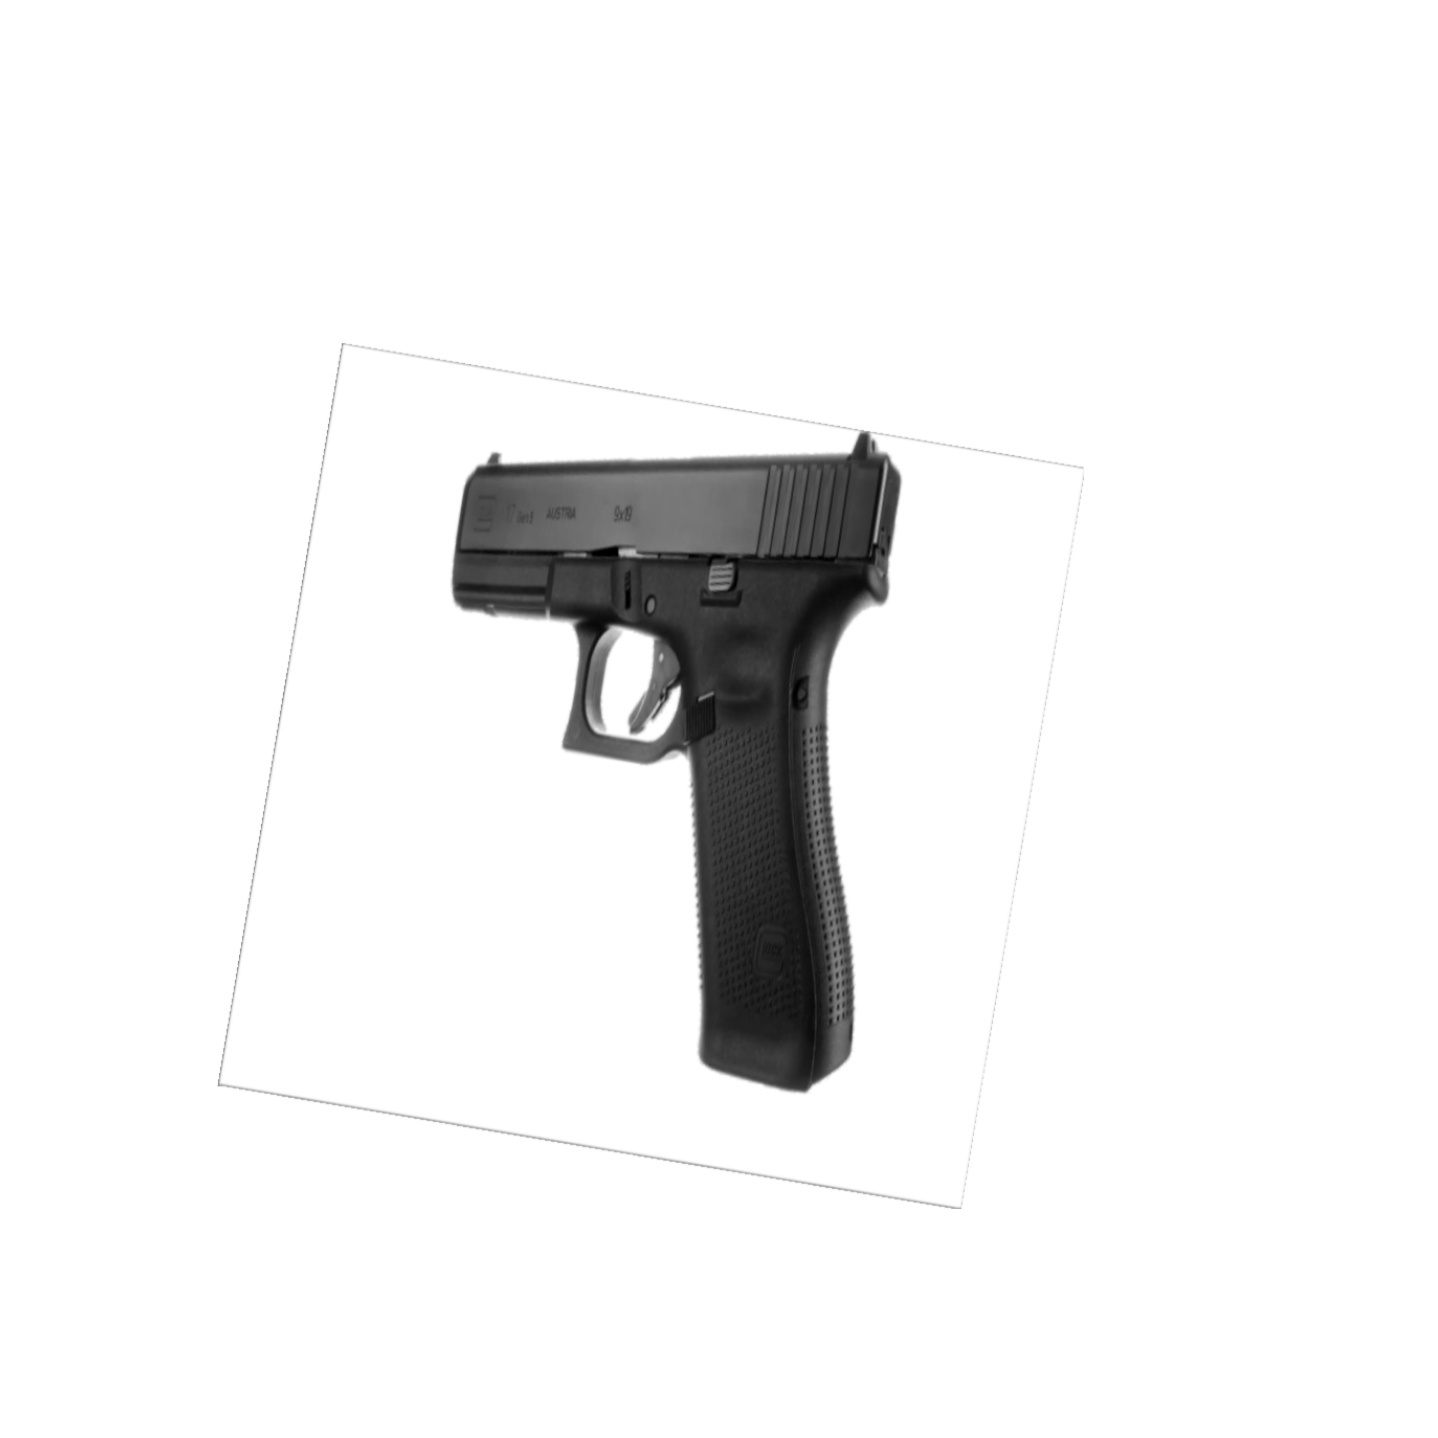gun: (452, 432, 903, 1092)
